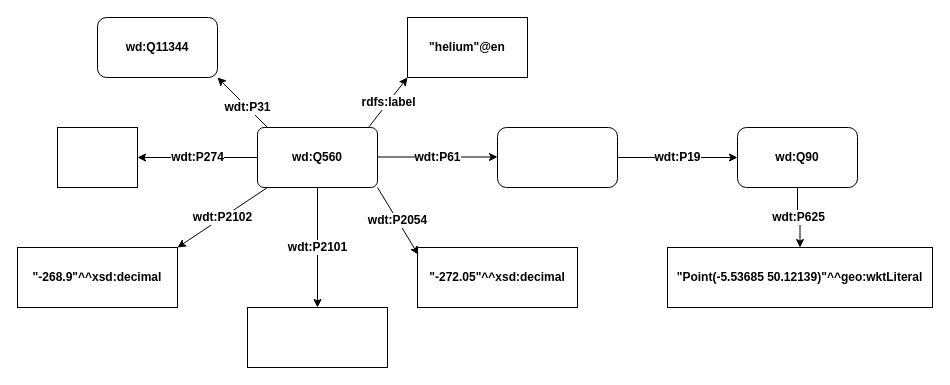
Image size: 950x385. Some labels were removed from this diagram. The box of each missing label's shape, as (x1, y1, x2, y2) in pixels:
"0.1785"^^xsd:decimal: (246, 306, 388, 368)
"He"@en: (56, 126, 138, 188)
wd:Q298581: (496, 126, 618, 188)
